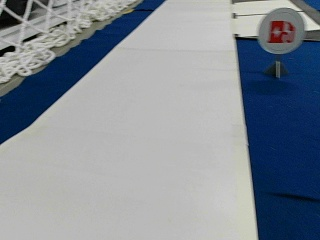battery: (256, 5, 305, 54)
